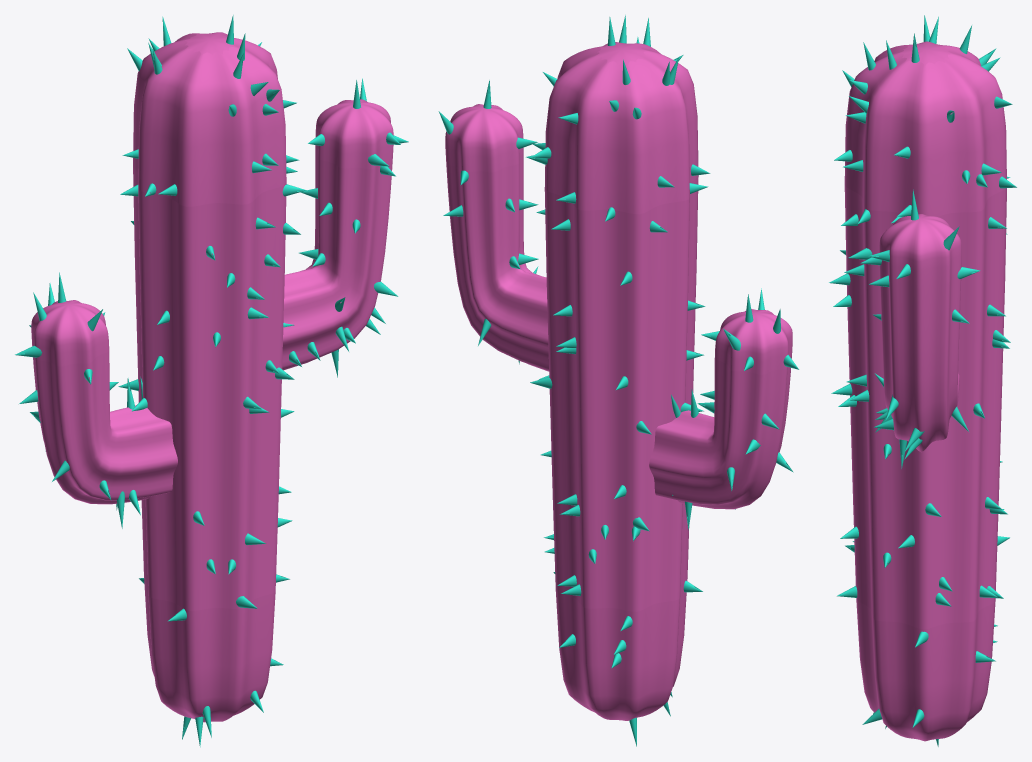
The model's file is cactus03.fbx.
3 views of the same model, side by side, from view 1: azimuth 30°, elevation 25°; view 2: azimuth 150°, elevation 25°; view 3: azimuth 270°, elevation 25° (orthographic). The views are drawn at different scales.
Visible parts, largest first — view 1: Extrude_7.001, Cone_81.001; view 2: Extrude_7.001, Cone_81.001; view 3: Extrude_7.001, Cone_81.001.
Part boxes in pixels (left/top/right/bottom): Extrude_7.001: left=31, top=32, right=393, bottom=722; Cone_81.001: left=15, top=15, right=408, bottom=747; Extrude_7.001: left=445, top=42, right=792, bottom=720; Cone_81.001: left=438, top=15, right=799, bottom=746; Extrude_7.001: left=844, top=41, right=1006, bottom=741; Cone_81.001: left=829, top=15, right=1016, bottom=746.
Bounding box in the file's own units: 3882 × 7219 × 1683.
